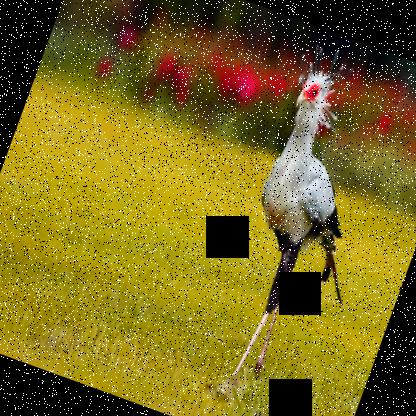Sagittarius serpentarius: (188, 37, 415, 405)
